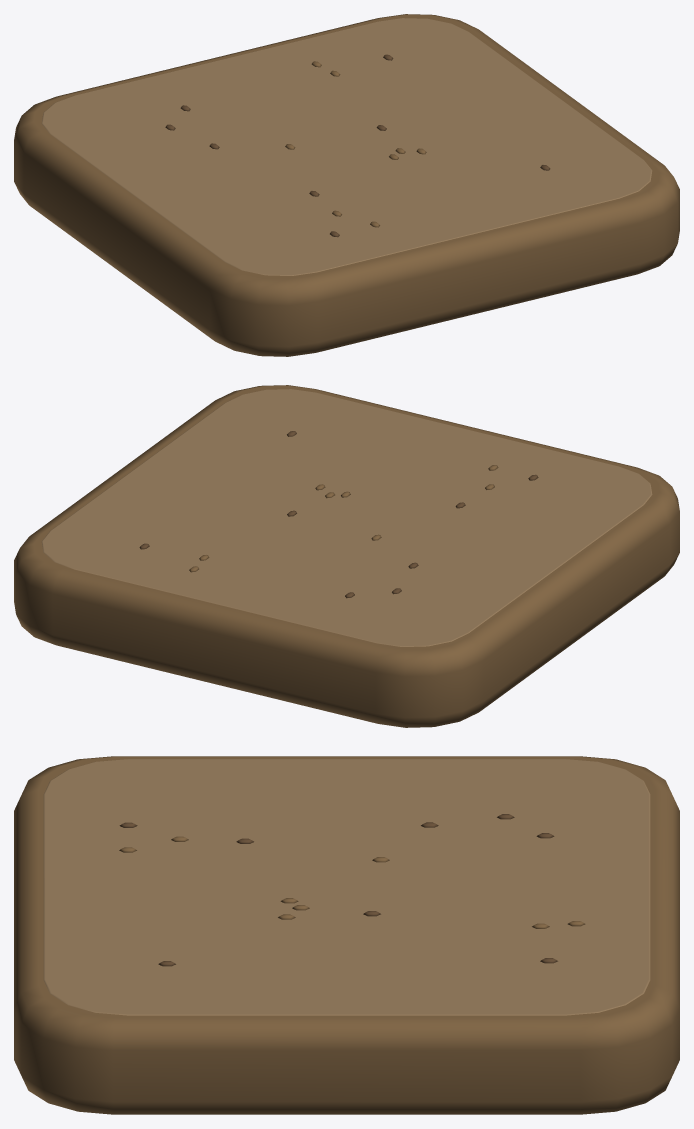
File: plot.glb
3 views of the same model, one above another, from view 1: azimuth 30°, elevation 25°; view 2: azimuth 150°, elevation 25°; view 3: azimuth 270°, elevation 25° (orthographic). The views are drawn at different scales.
Parts seen in each view (by area): view 1: plot; view 2: plot; view 3: plot.
Boxes of the visible parts, x1=… form: plot: x1=14, y1=14, x2=679, y2=356; plot: x1=14, y1=385, x2=679, y2=727; plot: x1=14, y1=756, x2=679, y2=1114.
Size of the model in its own units: 0.94 by 0.155 by 0.94.
